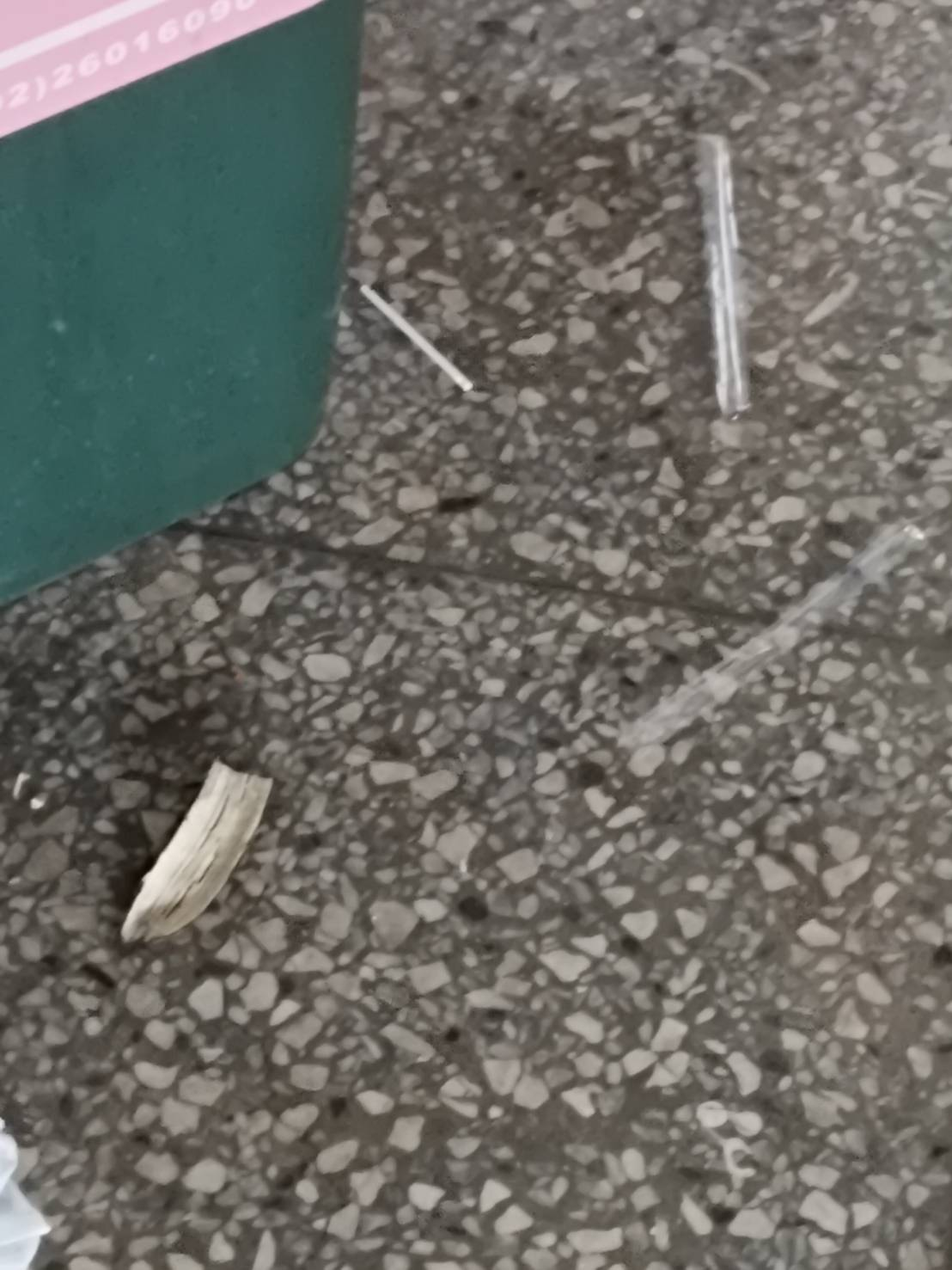General waste: (32, 694, 349, 1006)
plastic: (550, 433, 952, 814), (627, 86, 796, 450), (298, 224, 538, 473)
